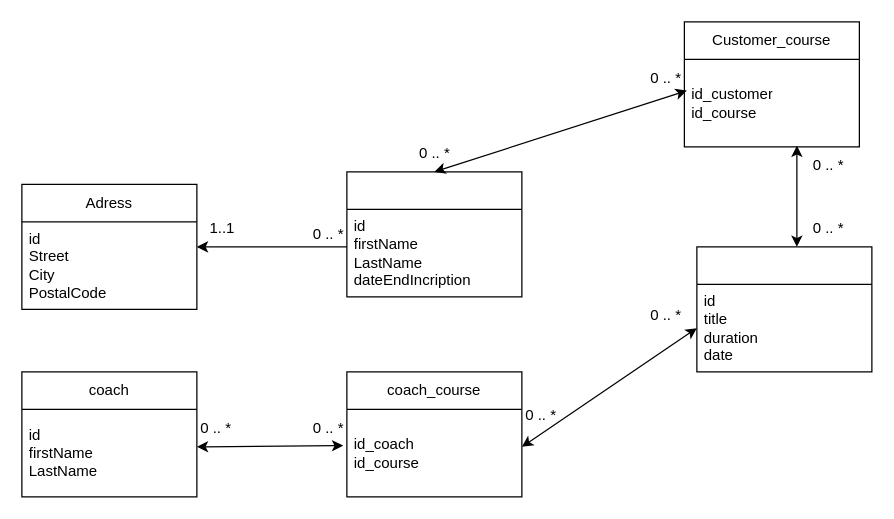
Some shapes in this 894 by 519 pixel diagram are drawn without their labels. The box of each missing label's shape, as (x1, y1, x2, y2) in pixels:
course: (696, 246, 872, 372)
Customer: (346, 171, 522, 297)
